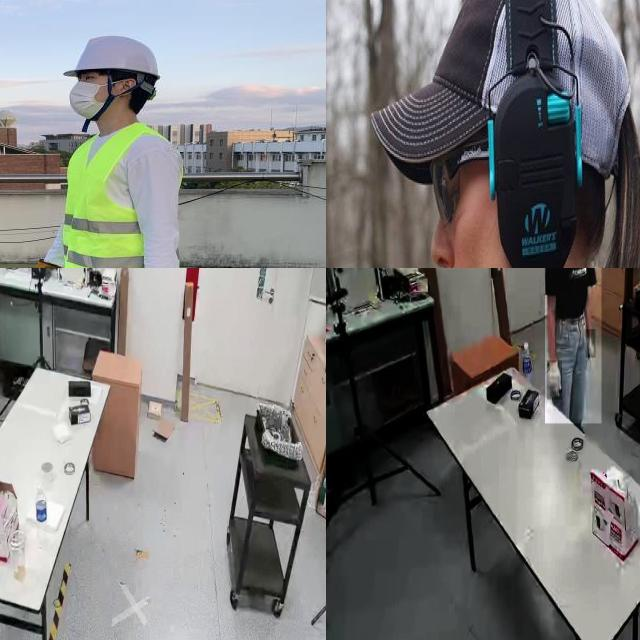Ear-protection: (486, 71, 581, 268)
No_Ear-Protection: (114, 77, 144, 99)
hand_glove: (547, 360, 563, 400), (586, 329, 596, 359)
head_helmet: (62, 35, 161, 82)
person: (21, 26, 226, 268), (545, 268, 602, 424)
vest: (64, 123, 182, 268)
